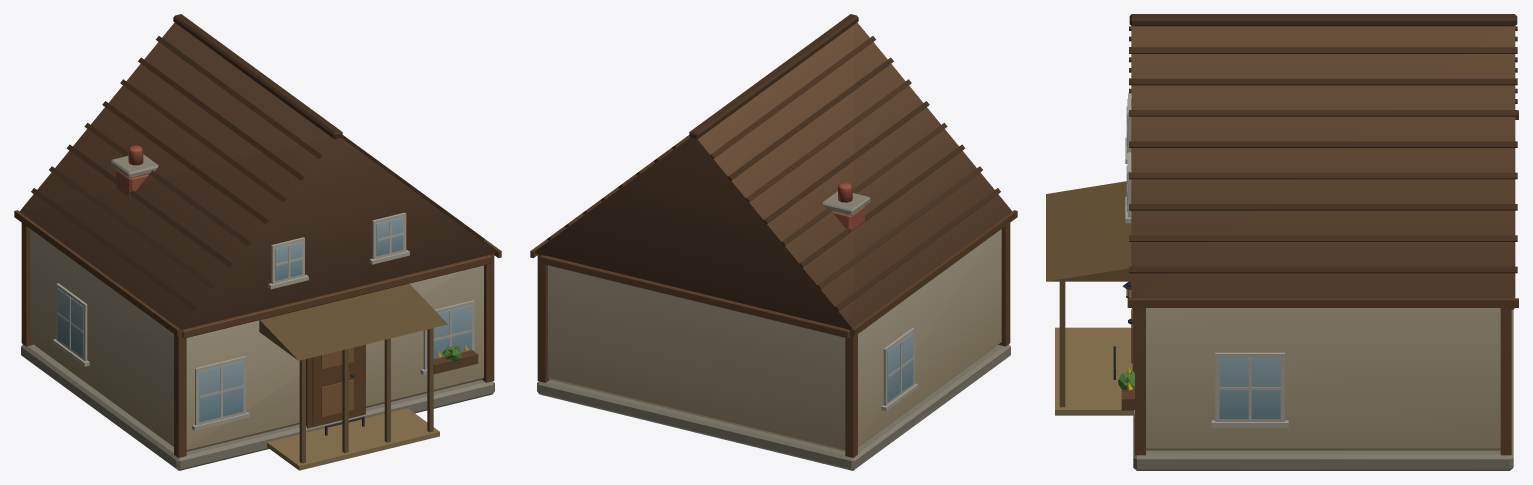
Rendered from farmhouse.glb.
The picture shows the model from 3 angles, left to right: view 1: azimuth 30°, elevation 25°; view 2: azimuth 150°, elevation 25°; view 3: azimuth 270°, elevation 25°; orthographic projection. The views are drawn at different scales.
Visible parts, largest first — view 1: farmhouse; view 2: farmhouse; view 3: farmhouse.
Boxes of the visible parts, x1,y1,x2,y2 form: farmhouse: (14,14,501,470); farmhouse: (530,14,1017,470); farmhouse: (1046,14,1518,470).
Size of the model in its own units: 7.37 by 6.58 by 7.76.
